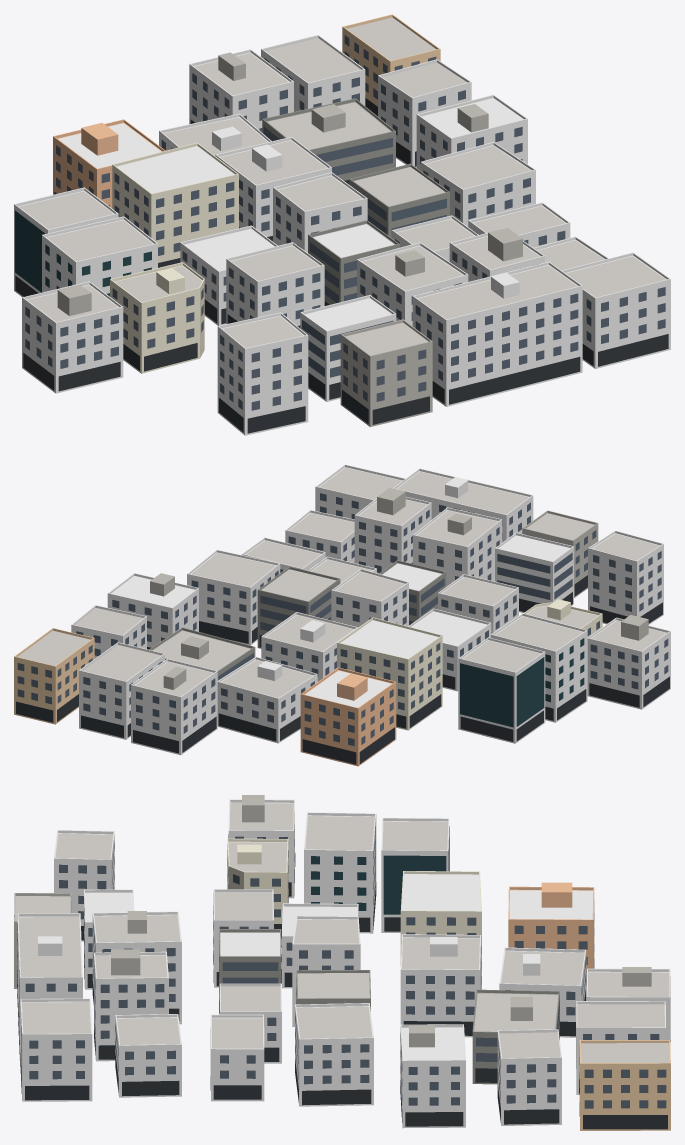
Rendered from fill_mid_s.glb.
The picture shows the model from 3 angles, top to bottom: view 1: azimuth 30°, elevation 25°; view 2: azimuth 150°, elevation 25°; view 3: azimuth 270°, elevation 25°; orthographic projection. The views are drawn at different scales.
Parts seen in each view (by area): view 1: fill_mid_s; view 2: fill_mid_s; view 3: fill_mid_s.
Boxes of the visible parts, x1,y1,x2,y2 form: fill_mid_s: (14, 14, 670, 435); fill_mid_s: (14, 464, 670, 766); fill_mid_s: (14, 795, 670, 1130).
Size of the model in its own units: 111 by 18.9 by 117.
